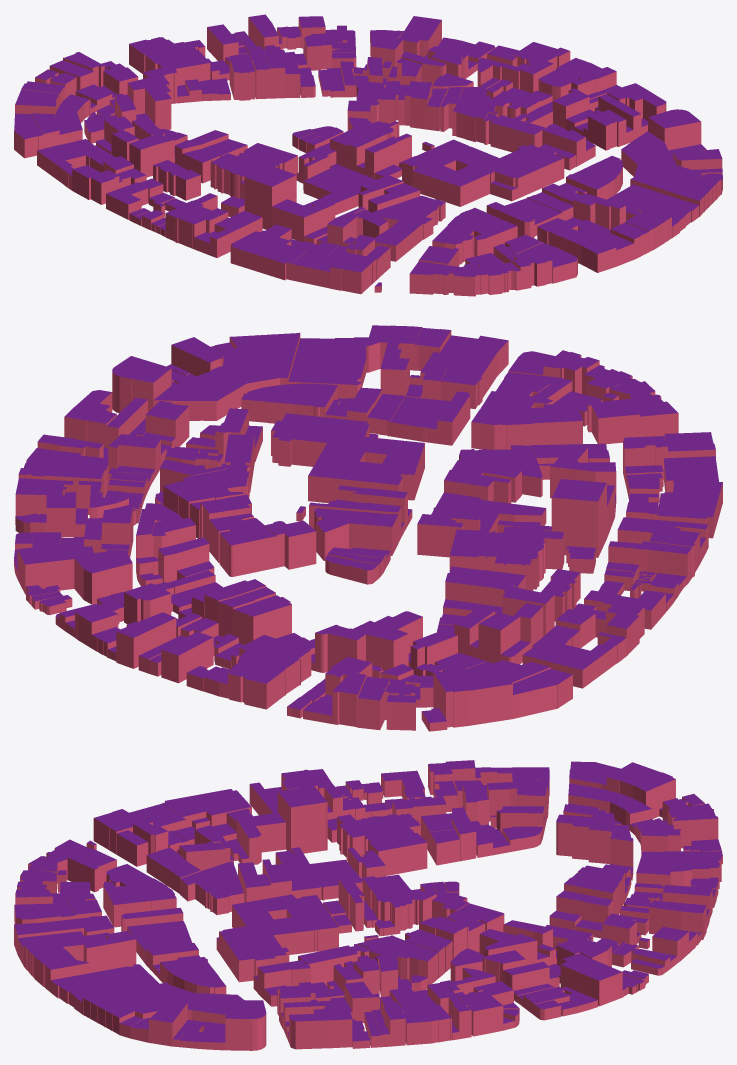
The model's file is not_oudekerk_001.glb.
The picture shows the model from 3 angles, top to bottom: view 1: azimuth 30°, elevation 25°; view 2: azimuth 150°, elevation 25°; view 3: azimuth 270°, elevation 25°; orthographic projection. The views are drawn at different scales.
Visible parts, largest first — view 1: map.osm_buildings.980, map.osm_buildings.697, map.osm_buildings.450, map.osm_buildings.207, map.osm_buildings.458, map.osm_buildings.410, map.osm_buildings.324, map.osm_buildings.827, map.osm_buildings.659, map.osm_buildings.454, map.osm_buildings.457, map.osm_buildings.257 (+85 smaller); view 2: map.osm_buildings.980, map.osm_buildings.697, map.osm_buildings.450, map.osm_buildings.207, map.osm_buildings.458, map.osm_buildings.827, map.osm_buildings.457, map.osm_buildings.659, map.osm_buildings.198, map.osm_buildings.546, map.osm_buildings.446, map.osm_buildings.324 (+82 smaller); view 3: map.osm_buildings.980, map.osm_buildings.697, map.osm_buildings.207, map.osm_buildings.827, map.osm_buildings.450, map.osm_buildings.659, map.osm_buildings.458, map.osm_buildings.404, map.osm_buildings.457, map.osm_buildings.454, map.osm_buildings.455, map.osm_buildings.314 (+91 smaller).
Part boxes in pixels (x1,y1,x2,y2): map.osm_buildings.980: (402, 139, 564, 206); map.osm_buildings.697: (621, 131, 721, 216); map.osm_buildings.450: (432, 208, 517, 264); map.osm_buildings.207: (210, 143, 297, 198); map.osm_buildings.458: (129, 37, 210, 85); map.osm_buildings.410: (230, 231, 307, 280); map.osm_buildings.324: (537, 218, 616, 272); map.osm_buildings.827: (127, 63, 177, 129); map.osm_buildings.659: (244, 165, 296, 229); map.osm_buildings.454: (303, 164, 375, 215); map.osm_buildings.457: (607, 184, 699, 237); map.osm_buildings.257: (272, 199, 335, 242); map.osm_buildings.980: (271, 413, 424, 503); map.osm_buildings.697: (153, 332, 300, 420); map.osm_buildings.450: (471, 391, 582, 449); map.osm_buildings.207: (449, 525, 564, 590); map.osm_buildings.458: (228, 635, 311, 709); map.osm_buildings.827: (315, 611, 422, 672); map.osm_buildings.457: (288, 337, 368, 398); map.osm_buildings.659: (551, 479, 606, 557); map.osm_buildings.198: (209, 513, 276, 576); map.osm_buildings.546: (314, 508, 398, 560); map.osm_buildings.446: (241, 383, 338, 423); map.osm_buildings.324: (441, 335, 508, 409); map.osm_buildings.980: (219, 894, 338, 982); map.osm_buildings.697: (82, 982, 244, 1034); map.osm_buildings.207: (337, 813, 427, 875); map.osm_buildings.827: (556, 812, 633, 866); map.osm_buildings.450: (103, 864, 176, 927); map.osm_buildings.659: (277, 786, 327, 853); map.osm_buildings.458: (636, 851, 721, 888); map.osm_buildings.404: (289, 1003, 352, 1049); map.osm_buildings.457: (50, 964, 159, 1013); map.osm_buildings.454: (275, 850, 362, 900); map.osm_buildings.455: (180, 861, 244, 914); map.osm_buildings.314: (560, 953, 622, 1006).
Size of the model in its own units: 359 by 30 by 401.
